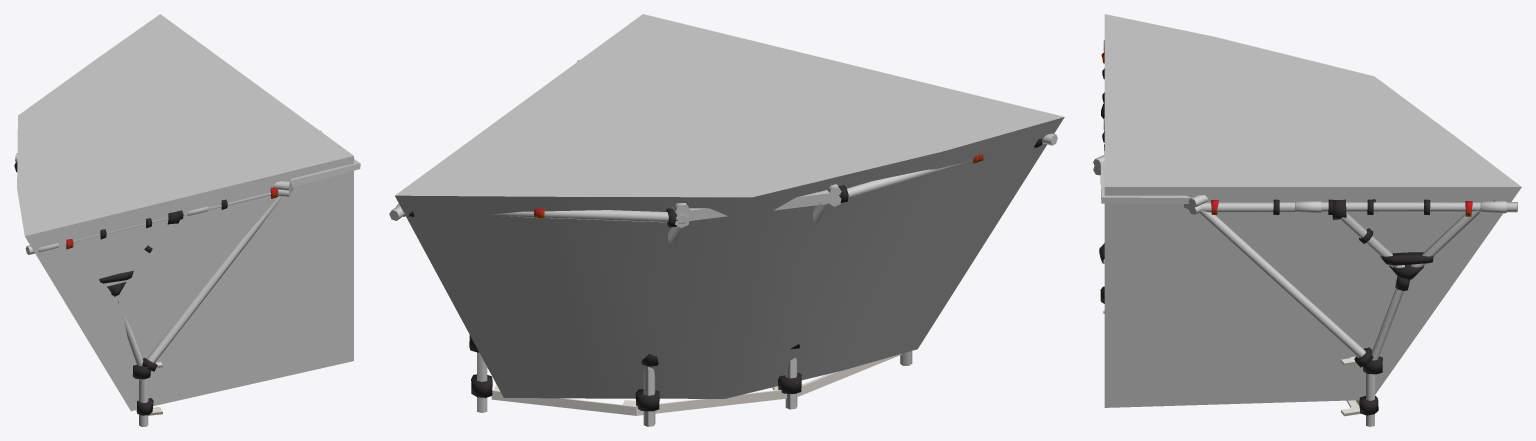
The model's file is builderRoofSlopeCornerExt_WIP.FBX.
3 renders of one model, left to right at view 1: azimuth 30°, elevation 25°; view 2: azimuth 150°, elevation 25°; view 3: azimuth 270°, elevation 25°, orthographic. The views are drawn at different scales.
Visible parts, largest first — view 1: builderRoofSlopeCornerExt_COL, builderRoofSlopeCornerExt_WIP_LOD0; view 2: builderRoofSlopeCornerExt_COL, builderRoofSlopeCornerExt_WIP_LOD0; view 3: builderRoofSlopeCornerExt_COL, builderRoofSlopeCornerExt_WIP_LOD0.
Boxes of the visible parts, box(x1,y1,x2,y2) form: builderRoofSlopeCornerExt_COL: box(17, 14, 353, 410); builderRoofSlopeCornerExt_WIP_LOD0: box(14, 130, 360, 426); builderRoofSlopeCornerExt_COL: box(395, 14, 1064, 398); builderRoofSlopeCornerExt_WIP_LOD0: box(389, 60, 1057, 426); builderRoofSlopeCornerExt_COL: box(1104, 14, 1521, 407); builderRoofSlopeCornerExt_WIP_LOD0: box(1093, 40, 1517, 426).
Size of what is drawn, in the model's own units: 5.04 by 3.12 by 5.11.
